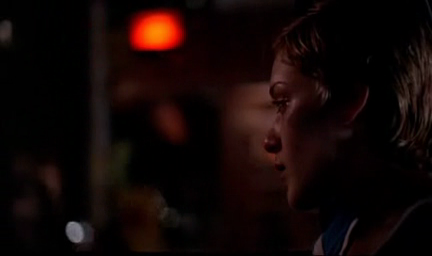cu: (1, 1, 432, 256)
face: (262, 55, 319, 214)
person: (262, 1, 432, 256)
